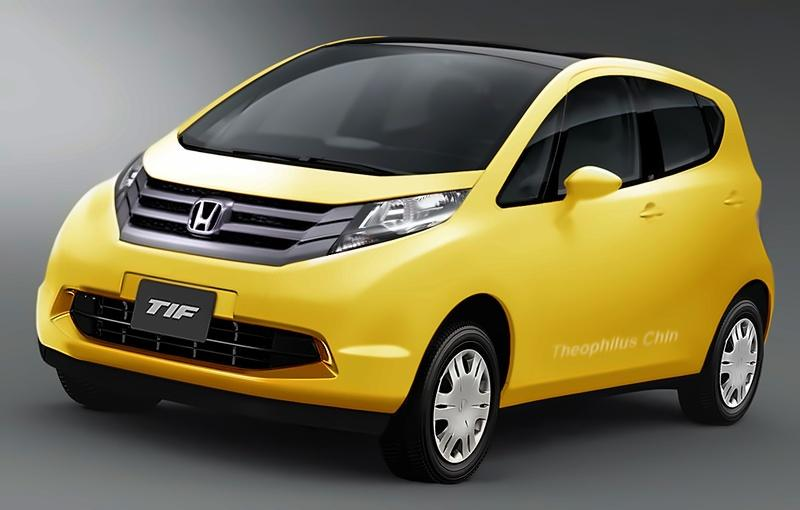Car hood: (143, 126, 486, 214)
Front bumper: (31, 180, 443, 420)
Headlight - -L-: (324, 186, 472, 258)
Headlight - -R-: (107, 147, 146, 219)
Passenger-s door - -F-L-: (501, 49, 670, 416)
Passenger-s door - -R-L-: (652, 50, 756, 414)
Side bumper - -L-: (496, 338, 711, 431)
Side mirror - -L-: (546, 166, 623, 227)
